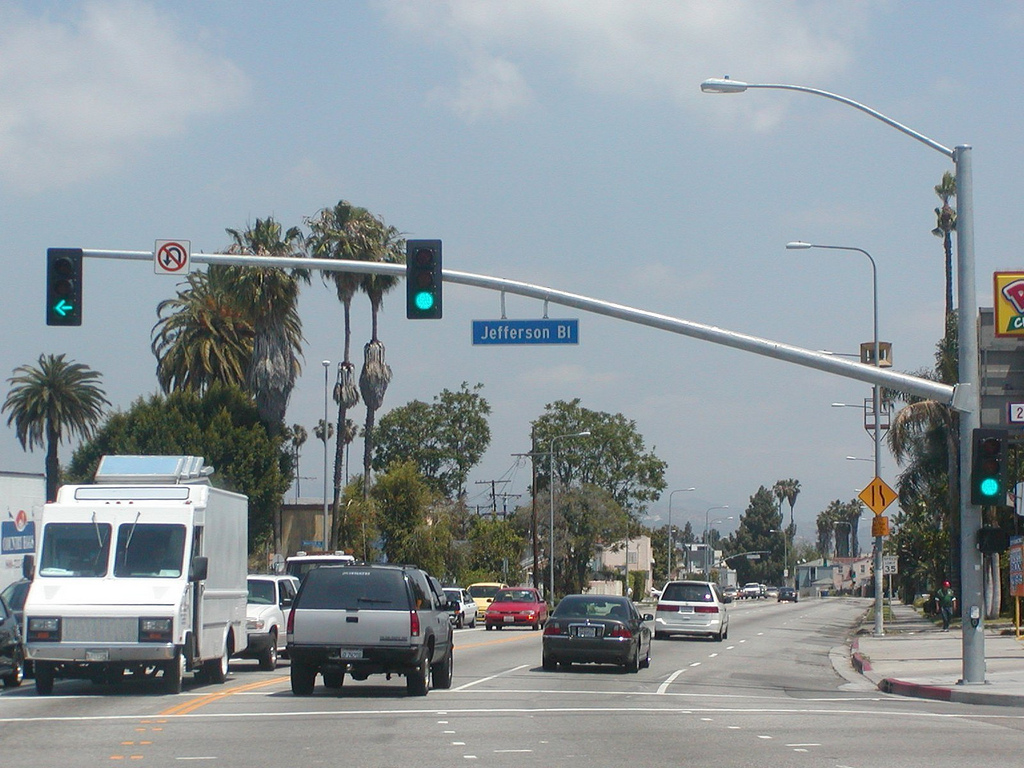traffic_light: (43, 246, 84, 328), (404, 238, 444, 321), (969, 427, 1010, 507)
